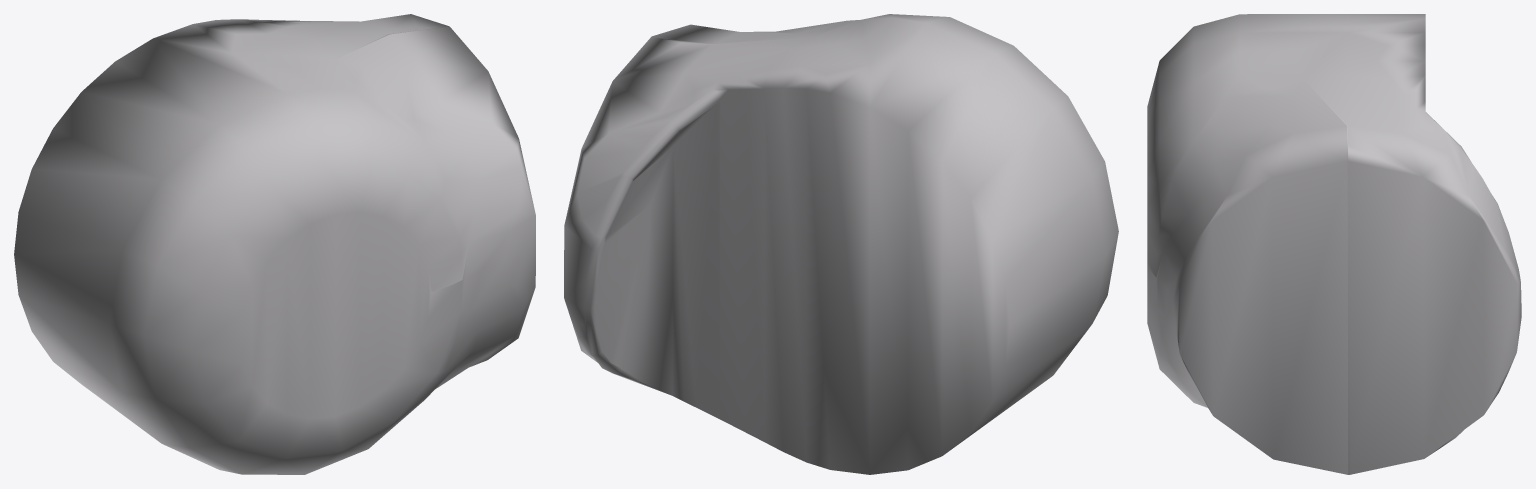
Rendered from Left_Shoulder_Lower.dae.
3 views of the same model, side by side, from view 1: azimuth 30°, elevation 25°; view 2: azimuth 150°, elevation 25°; view 3: azimuth 270°, elevation 25° (orthographic). The views are drawn at different scales.
Visible parts, largest first — view 1: Mesh; view 2: Mesh; view 3: Mesh.
Boxes of the visible parts, box(x1,y1,x2,y2) form: Mesh: box(14, 14, 535, 474); Mesh: box(564, 14, 1118, 474); Mesh: box(1147, 14, 1521, 474).
Size of the model in its own units: 0.1829 by 0.1651 by 0.1538.
1 material, 1 textured.
